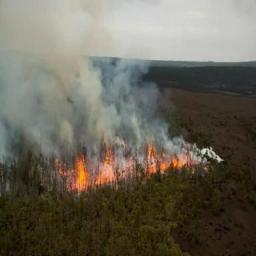Heavy smoke: (0, 0, 177, 192)
Medium fire: (24, 134, 225, 204)
